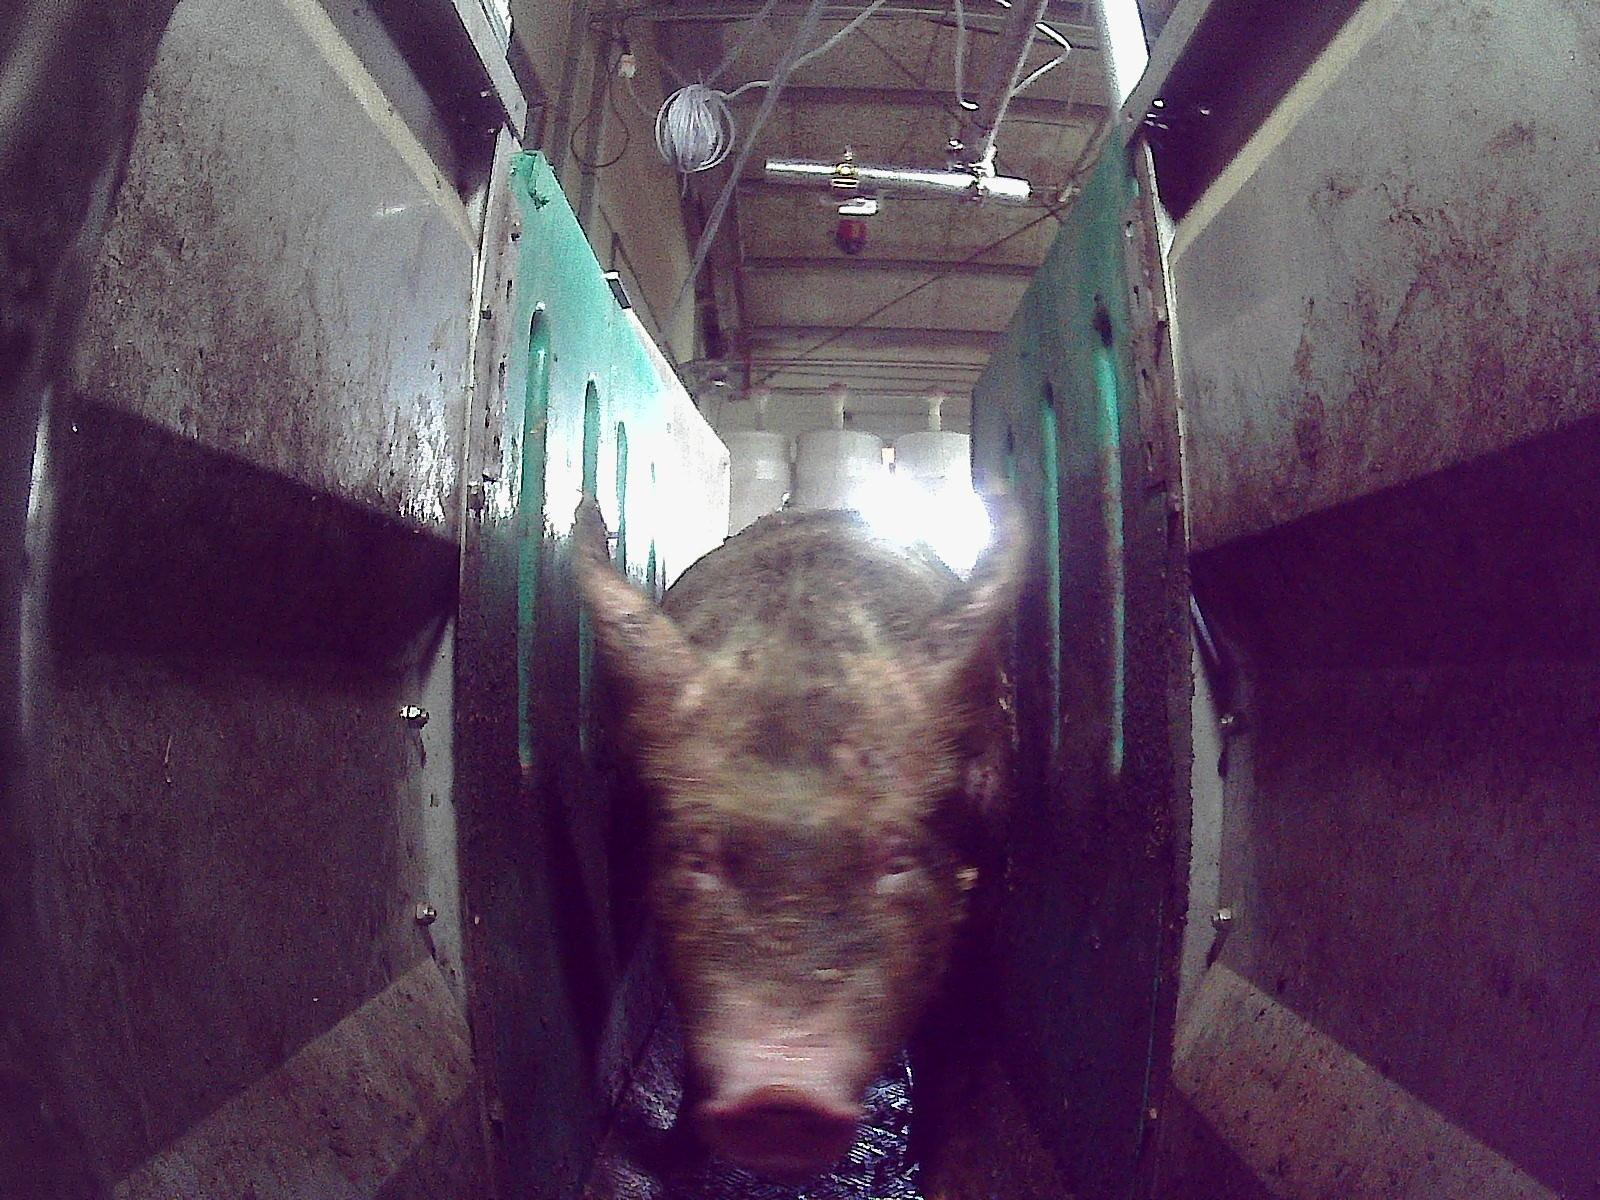Face: (644, 566, 995, 1185)
